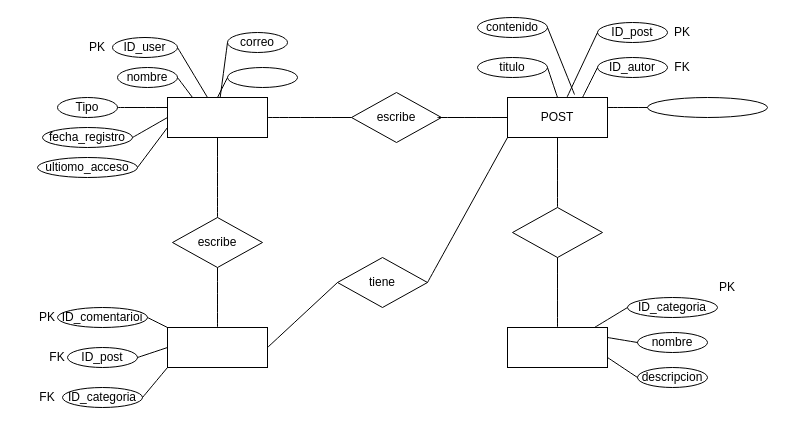
The diagram is 785 pixels wide and 430 high, and some of its shapes have lost their labels. Each missing label, with the centre of its shape:
"CATEGORIA" belongs at point (557, 347).
"COMENTARIO" belongs at point (217, 347).
"contraseña" belongs at point (262, 77).
"Fecha_publicacion" belongs at point (707, 107).
"pertenece" belongs at point (557, 232).
"USUARIO" belongs at point (217, 117).
